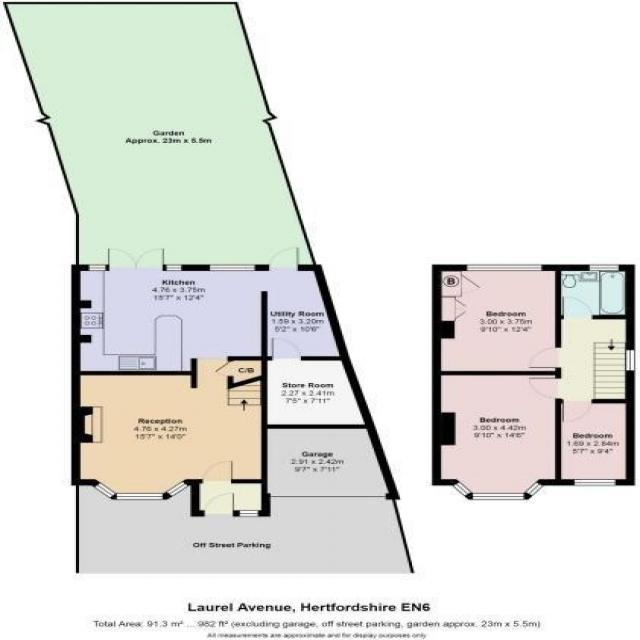DOOR: (202, 491, 236, 517), (561, 398, 593, 424), (527, 346, 562, 369), (528, 376, 561, 400), (201, 460, 233, 484), (561, 296, 594, 319)
DOUBLE DOOR: (105, 243, 168, 272)
ROOM: (71, 356, 268, 502), (71, 247, 269, 375), (432, 371, 561, 501), (431, 264, 562, 375), (554, 399, 636, 486)
WINDOW: (92, 479, 191, 501), (451, 480, 546, 501), (465, 264, 544, 272), (573, 478, 617, 487), (209, 264, 257, 272), (624, 349, 636, 372), (588, 264, 620, 272), (238, 509, 260, 517), (87, 264, 108, 272), (165, 264, 183, 271)
